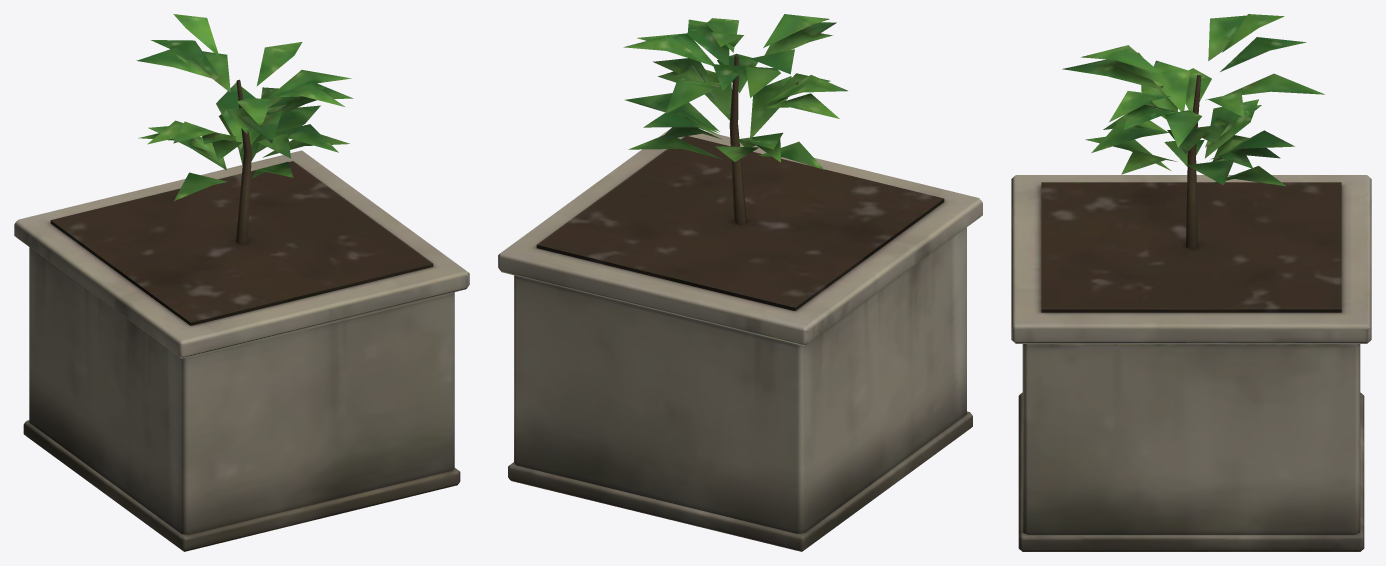
File: planter.glb
3 views of the same model, side by side, from view 1: azimuth 30°, elevation 25°; view 2: azimuth 150°, elevation 25°; view 3: azimuth 270°, elevation 25° (orthographic). The views are drawn at different scales.
Visible parts, largest first — view 1: body; view 2: body; view 3: body.
Boxes of the visible parts, <box> form: body: <box>14,14,469,551</box>; body: <box>498,14,982,551</box>; body: <box>1011,14,1371,551</box>.
Size of the model in its own units: 0.96 by 1.33 by 0.96.
Materials: 1 (1 with a texture image).
